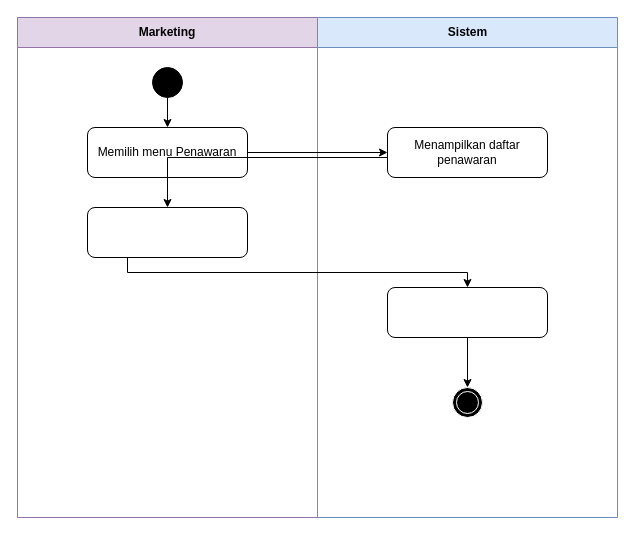
Image size: 635x535. Some labels were removed from this diagram. Here are the shapes that lost their labels. From the top down, the centre of each, then its label:
At (167,232): "Mengklik salah satu penawaran".
At (467,312): "Menampilkan detail penawaran".
